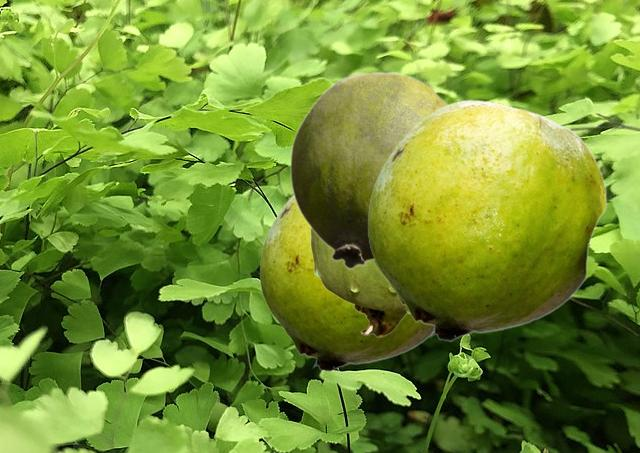guava: (367, 99, 606, 341), (289, 71, 447, 268), (259, 194, 432, 371), (310, 229, 409, 336)
